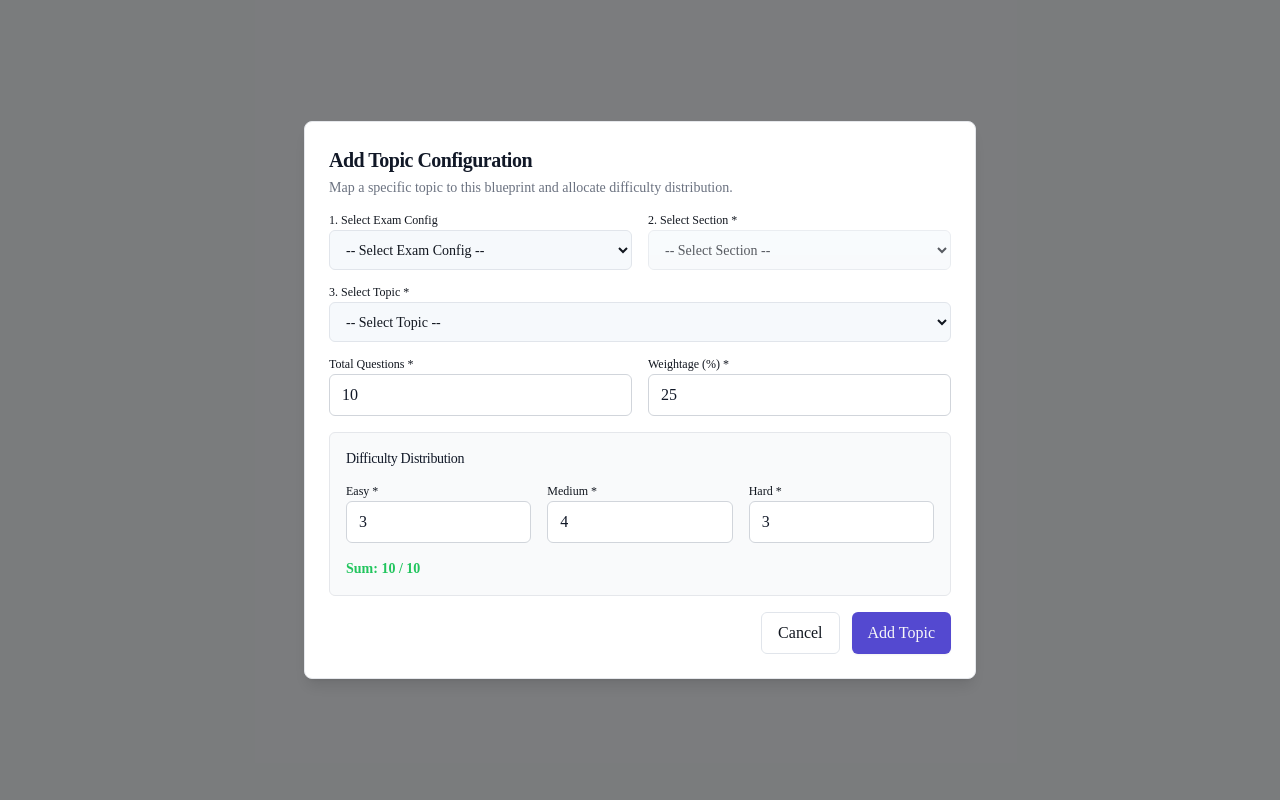
Test: AddTopicModal › validates difficulty sum
Step 1. Replace the text in the number field labelled "Easy *" with "10" → (439, 522), box [346,501,531,543]
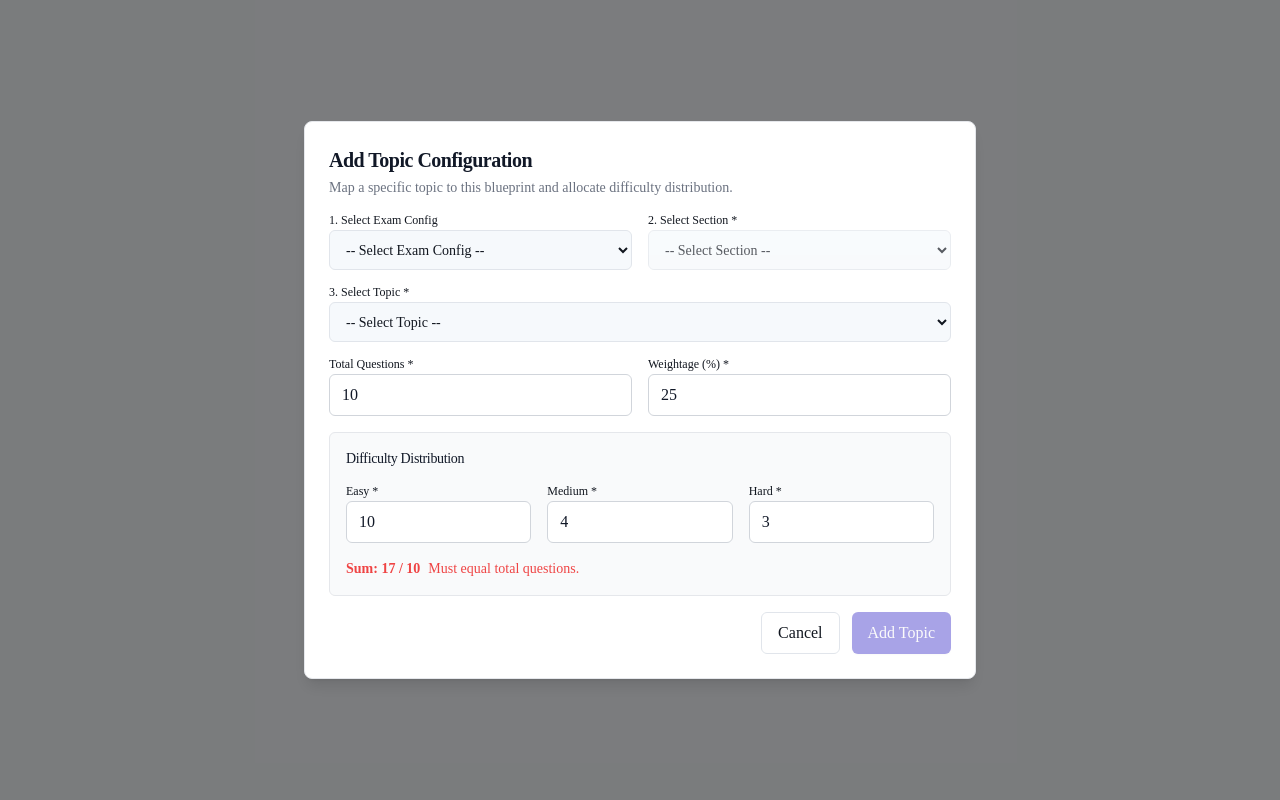
Expected: the text "Must equal total questions." is shown, [428,559,579,579]
Expected: the button "Add Topic" is disabled, [852,612,951,654]
